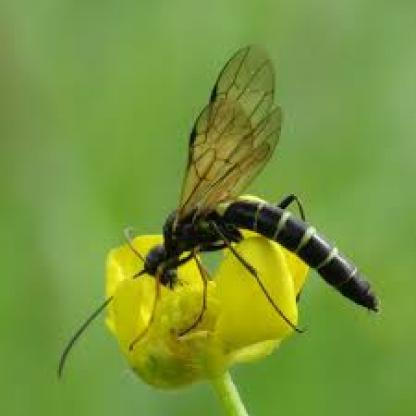sawfly: (56, 44, 390, 355)
